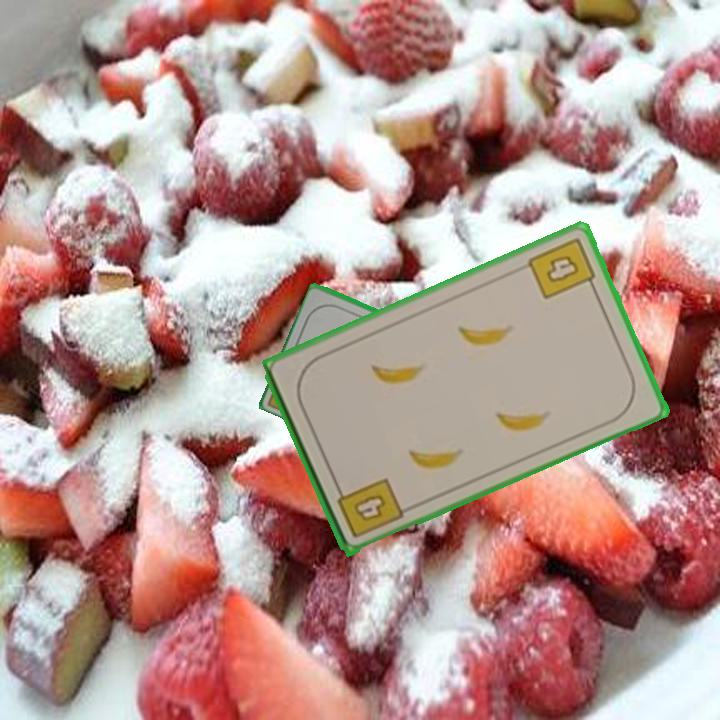4b: (524, 233, 600, 302), (332, 474, 406, 541)
